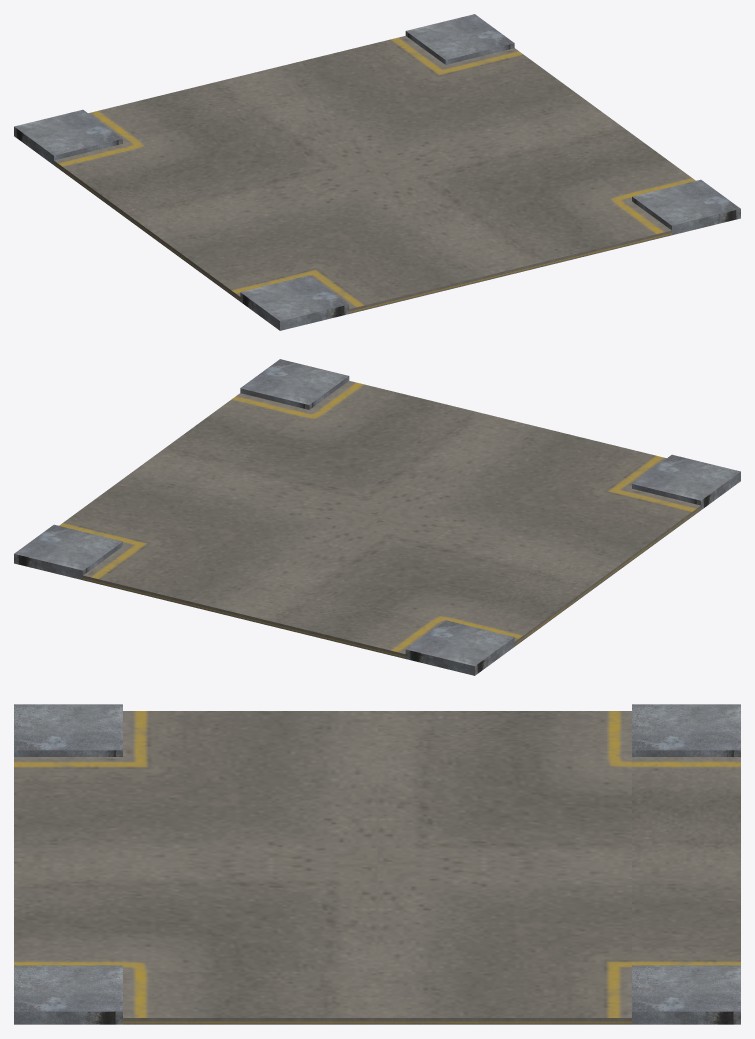
File: Urban_Road2Junction_Model.fbx
3 renders of one model, top to bottom at view 1: azimuth 30°, elevation 25°; view 2: azimuth 150°, elevation 25°; view 3: azimuth 270°, elevation 25°, orthographic. The views are drawn at different scales.
Parts seen in each view (by area): view 1: Urban_Road2Junction_Mesh; view 2: Urban_Road2Junction_Mesh; view 3: Urban_Road2Junction_Mesh.
Part boxes in pixels (bbox=[...]): Urban_Road2Junction_Mesh: bbox=[14, 14, 740, 330]; Urban_Road2Junction_Mesh: bbox=[14, 359, 740, 675]; Urban_Road2Junction_Mesh: bbox=[14, 704, 740, 1024].
Size of the model in its own units: 16 by 0.32 by 16.
